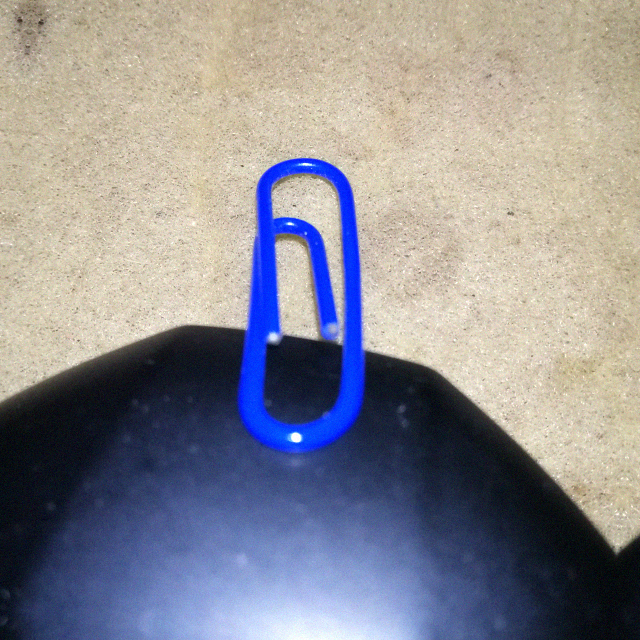pin: (230, 146, 384, 453)
